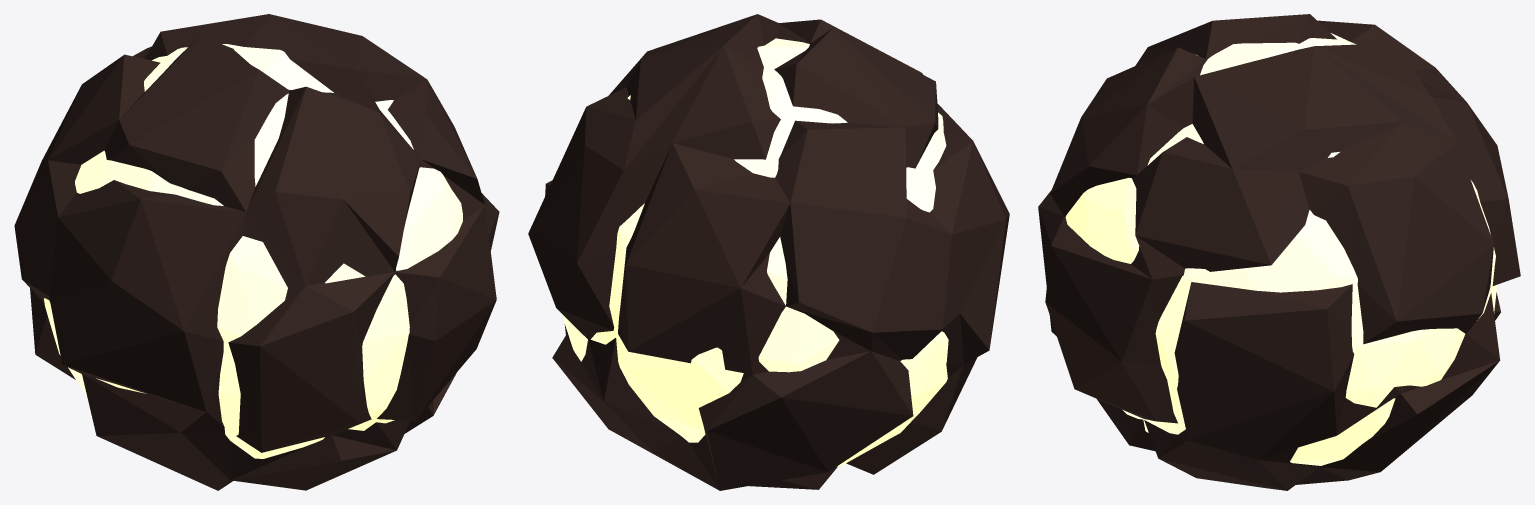
The model's file is lava_planet4.fbx.
3 renders of one model, left to right at view 1: azimuth 30°, elevation 25°; view 2: azimuth 150°, elevation 25°; view 3: azimuth 270°, elevation 25°, orthographic.
Parts seen in each view (by area): view 1: lava_planet4; view 2: lava_planet4; view 3: lava_planet4.
Part boxes in pixels (bbox=[...]): lava_planet4: bbox=[14, 14, 499, 490]; lava_planet4: bbox=[528, 14, 1009, 490]; lava_planet4: bbox=[1038, 14, 1520, 490].
Bounding box in the file's own units: 218 × 221 × 220.
